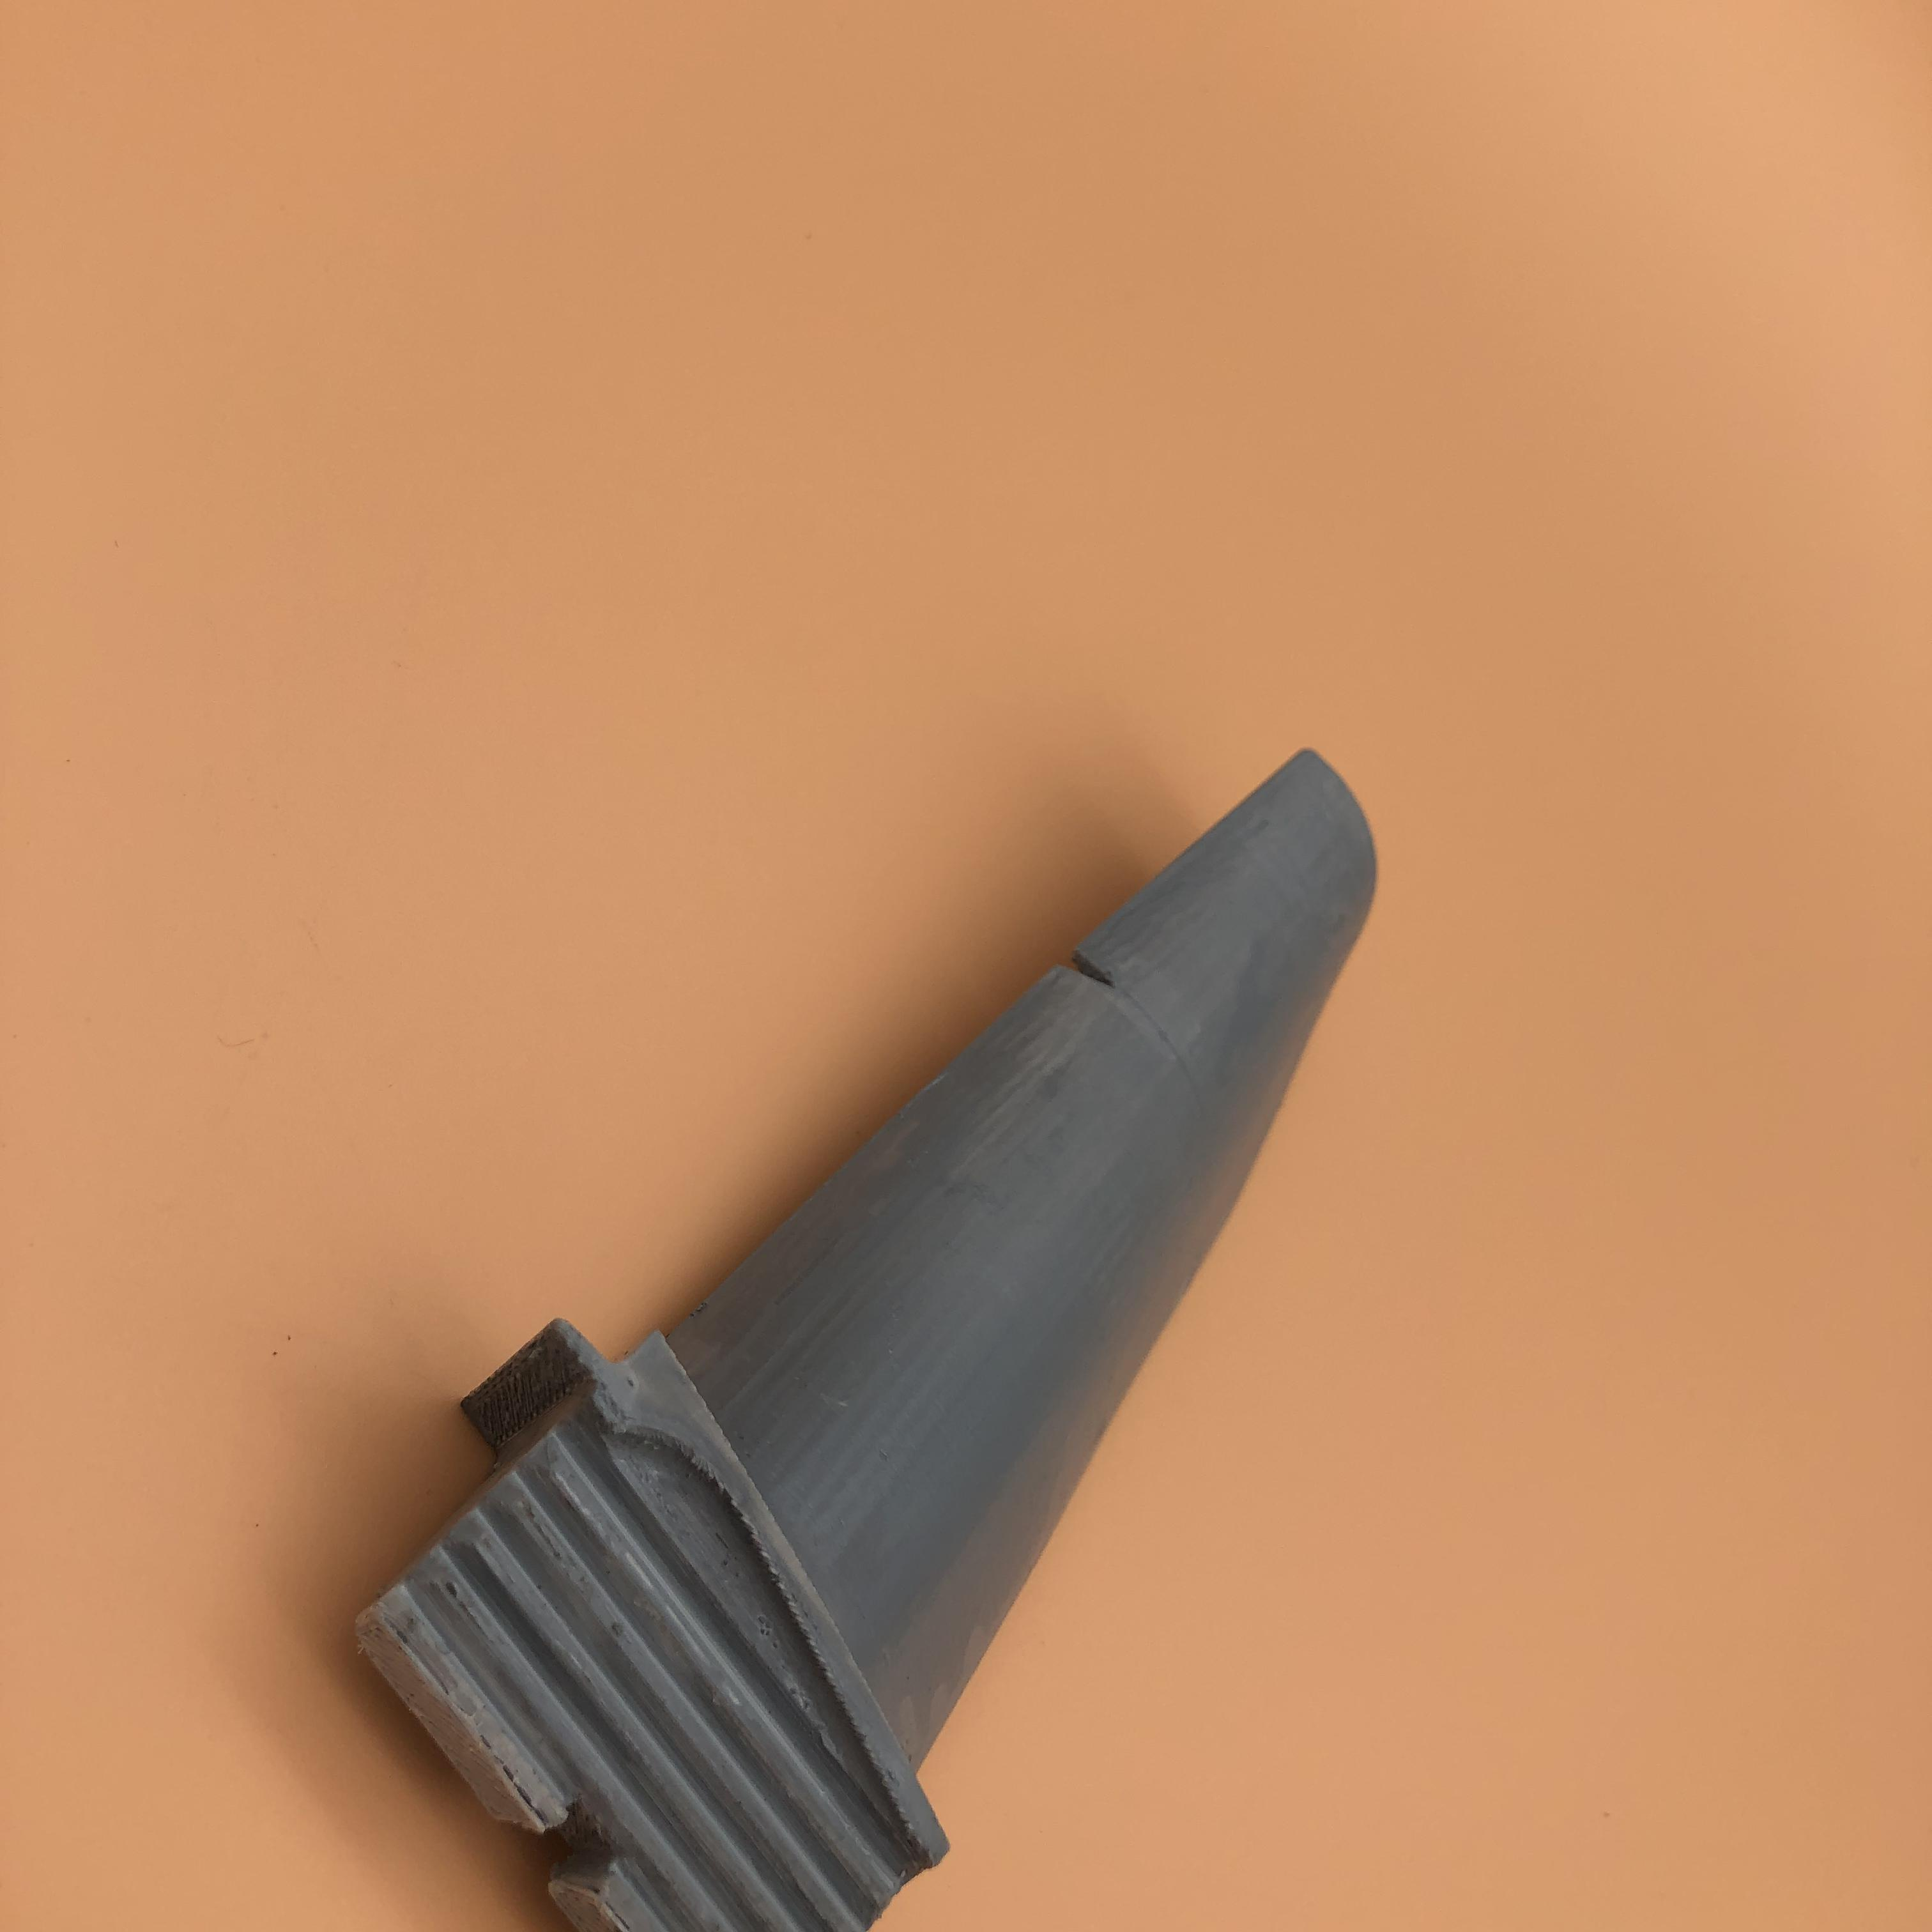groove: (1053, 941, 1136, 1005)
